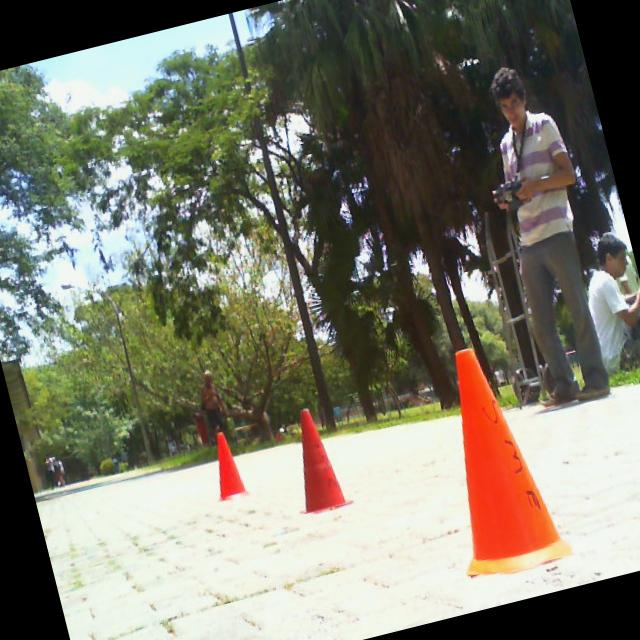cone: (412, 336, 572, 586), (277, 404, 354, 518), (200, 430, 248, 504)
